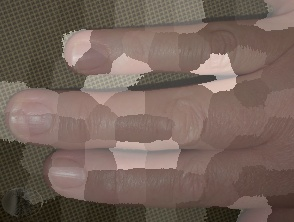Nail_psoriasis: (9, 106, 31, 128)
